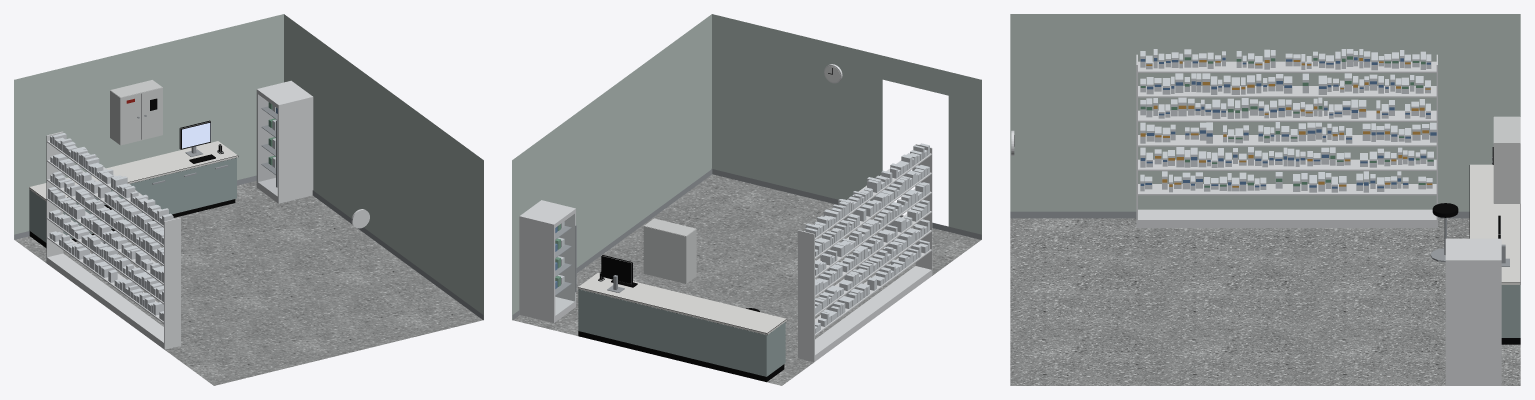
The model's file is room-records.glb.
3 views of the same model, side by side, from view 1: azimuth 30°, elevation 25°; view 2: azimuth 150°, elevation 25°; view 3: azimuth 270°, elevation 25° (orthographic). The views are drawn at different scales.
Visible parts, largest first — view 1: records_shell, records_packs, records_shelving, records_counter, records_fridge, records_register, glass_records_fridge, screen_dd-drugs-register; view 2: records_shell, records_counter, records_packs, records_shelving, records_fridge, records_register, glass_records_fridge; view 3: records_shell, records_packs, records_shelving, records_fridge, records_counter, records_register.
Part boxes in pixels (x1,y1,x2,y2): records_shell: (14, 14, 483, 385); records_packs: (48, 102, 277, 321); records_shelving: (46, 131, 180, 349); records_counter: (29, 141, 238, 247); records_fridge: (256, 80, 313, 203); records_register: (110, 80, 223, 163); glass_records_fridge: (258, 96, 276, 195); screen_dd-drugs-register: (182, 123, 210, 148); records_shell: (512, 14, 981, 385); records_counter: (578, 272, 786, 382); records_packs: (555, 143, 929, 333); records_shelving: (798, 144, 932, 362); records_fridge: (519, 200, 576, 322); records_register: (598, 218, 696, 292); glass_records_fridge: (556, 215, 574, 314); records_shell: (1010, 14, 1520, 385); records_packs: (1140, 49, 1436, 192); records_shelving: (1136, 54, 1437, 227); records_fridge: (1445, 238, 1501, 385); records_counter: (1430, 164, 1520, 344); records_register: (1492, 116, 1520, 266).
Size of the model in its own units: 5.3 by 3 by 6.8.
Materials: 18 (1 with a texture image).
